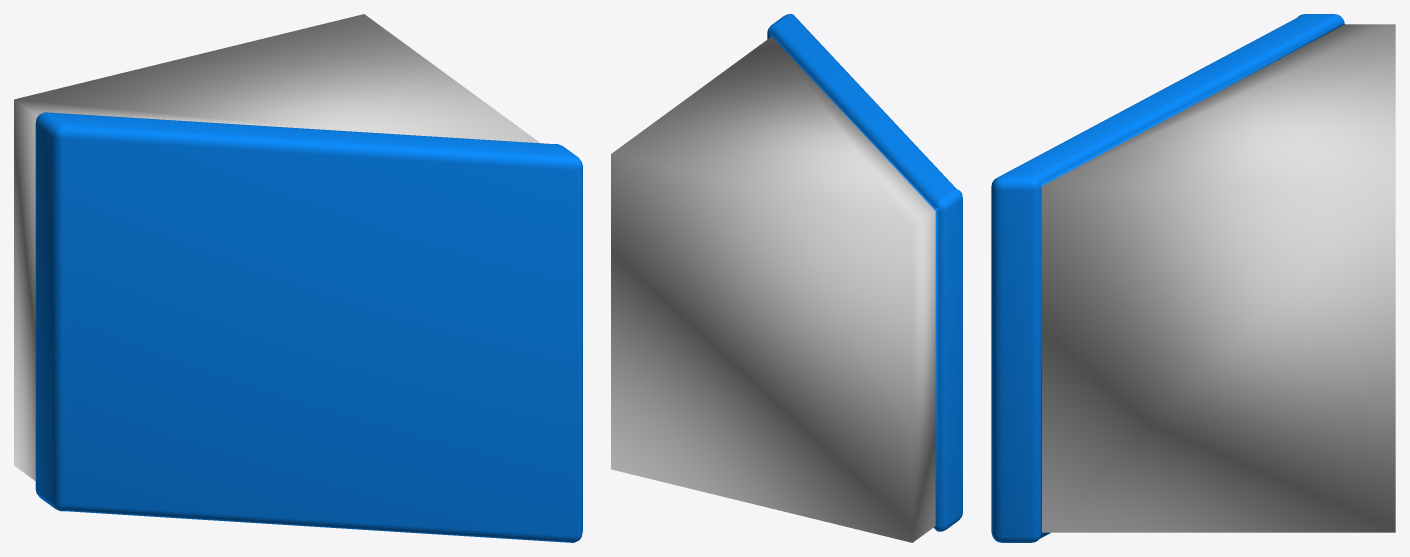
Rendered from Base_1_Ramp_Base_to_Tall.glb.
3 views of the same model, side by side, from view 1: azimuth 30°, elevation 25°; view 2: azimuth 150°, elevation 25°; view 3: azimuth 270°, elevation 25° (orthographic). The views are drawn at different scales.
Parts seen in each view (by area): view 1: Base 1 Ramp Base to Tall; view 2: Base 1 Ramp Base to Tall; view 3: Base 1 Ramp Base to Tall.
Part boxes in pixels (x1=…): Base 1 Ramp Base to Tall: x1=14, y1=14, x2=582, y2=542; Base 1 Ramp Base to Tall: x1=611, y1=14, x2=962, y2=542; Base 1 Ramp Base to Tall: x1=991, y1=14, x2=1395, y2=542.
Size of the model in its own units: 7.98 by 7.98 by 7.99.
